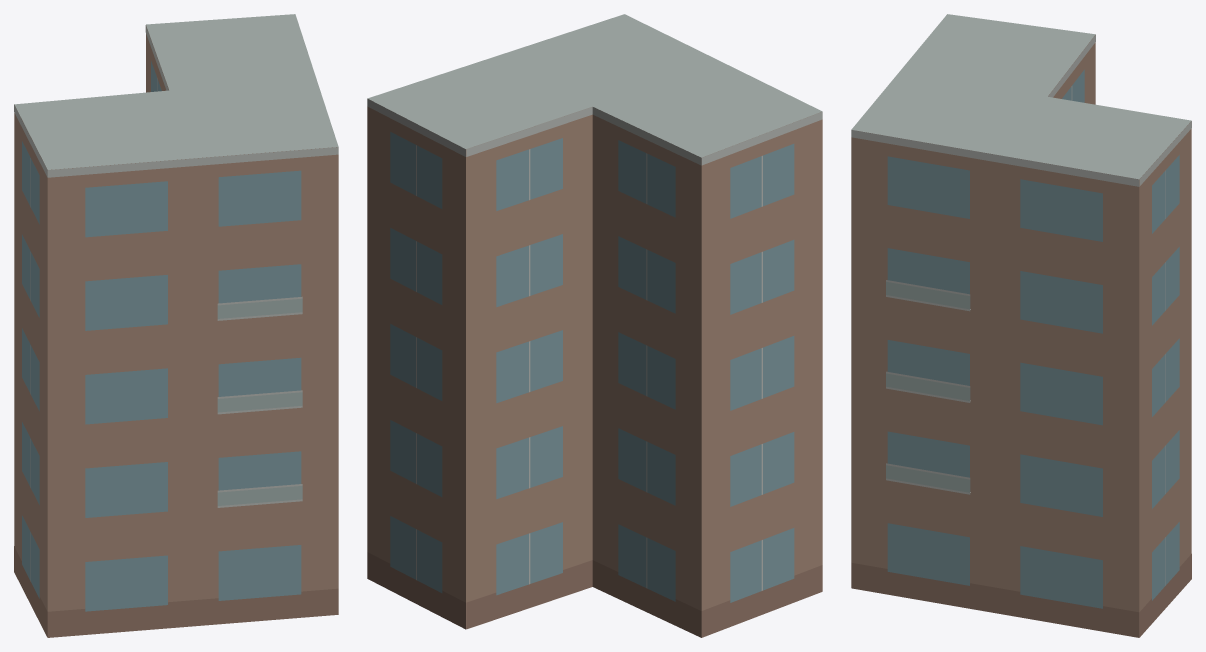
The model's file is survey-upis-32583109.glb.
3 renders of one model, left to right at view 1: azimuth 30°, elevation 25°; view 2: azimuth 150°, elevation 25°; view 3: azimuth 270°, elevation 25°, orthographic. The views are drawn at different scales.
Parts seen in each view (by area): view 1: survey-upis-32583109.tmp; view 2: survey-upis-32583109.tmp; view 3: survey-upis-32583109.tmp.
Part boxes in pixels (left/top/right/bottom): survey-upis-32583109.tmp: left=14, top=14, right=338, bottom=637; survey-upis-32583109.tmp: left=367, top=14, right=822, bottom=637; survey-upis-32583109.tmp: left=851, top=14, right=1191, bottom=637.
Size of the model in its own units: 11.45 by 14.8 by 9.97.
